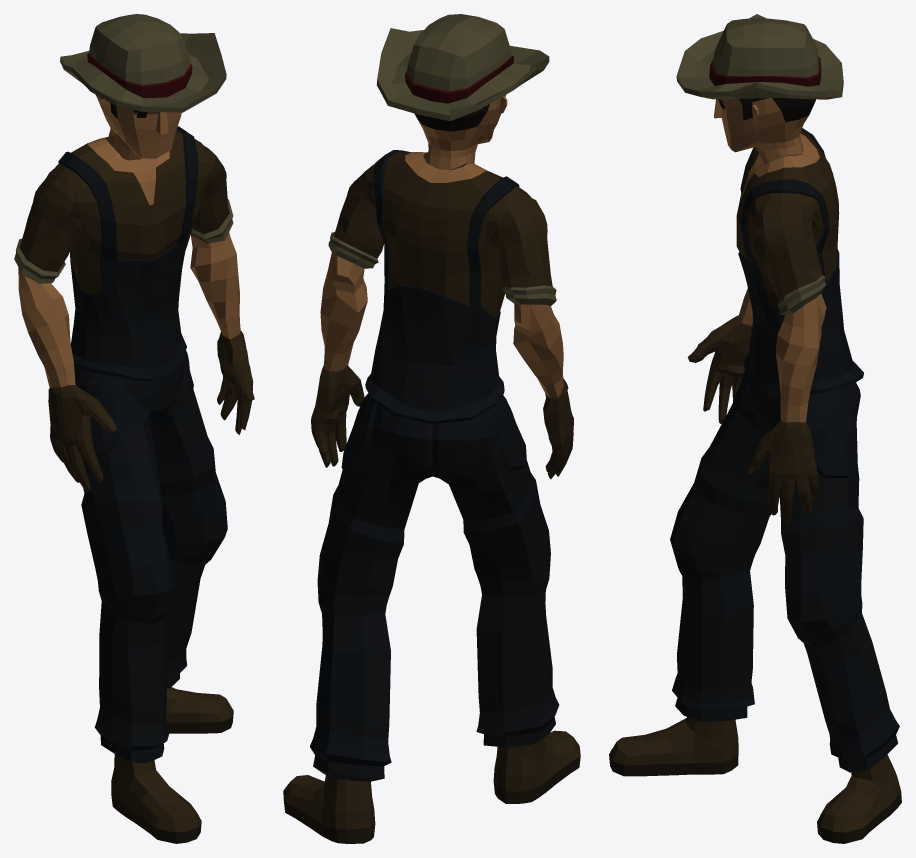
The model's file is 00_farmer.obj.
3 views of the same model, side by side, from view 1: azimuth 30°, elevation 25°; view 2: azimuth 150°, elevation 25°; view 3: azimuth 270°, elevation 25° (orthographic). The views are drawn at different scales.
Parts seen in each view (by area): view 1: Farmer_Body, Farmer_Pants, Farmer_Head, Farmer_Feet; view 2: Farmer_Pants, Farmer_Body, Farmer_Head, Farmer_Feet; view 3: Farmer_Pants, Farmer_Body, Farmer_Head, Farmer_Feet.
Part boxes in pixels (bbox=[...]): Farmer_Body: bbox=[14, 126, 254, 492]; Farmer_Pants: bbox=[74, 350, 227, 763]; Farmer_Head: bbox=[60, 14, 226, 160]; Farmer_Feet: bbox=[111, 687, 233, 843]; Farmer_Pants: bbox=[310, 393, 559, 781]; Farmer_Body: bbox=[311, 150, 573, 478]; Farmer_Head: bbox=[376, 14, 549, 169]; Farmer_Feet: bbox=[283, 730, 580, 843]; Farmer_Pants: bbox=[670, 371, 899, 772]; Farmer_Body: bbox=[687, 128, 863, 525]; Farmer_Head: bbox=[676, 14, 843, 164]; Farmer_Feet: bbox=[609, 717, 901, 843].
Size of the model in its own units: 0.591 by 1.81 by 0.6331.
